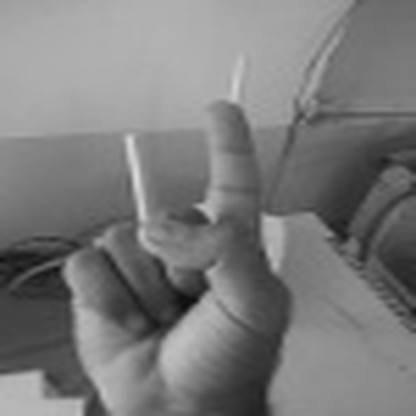d: (61, 94, 296, 399)
